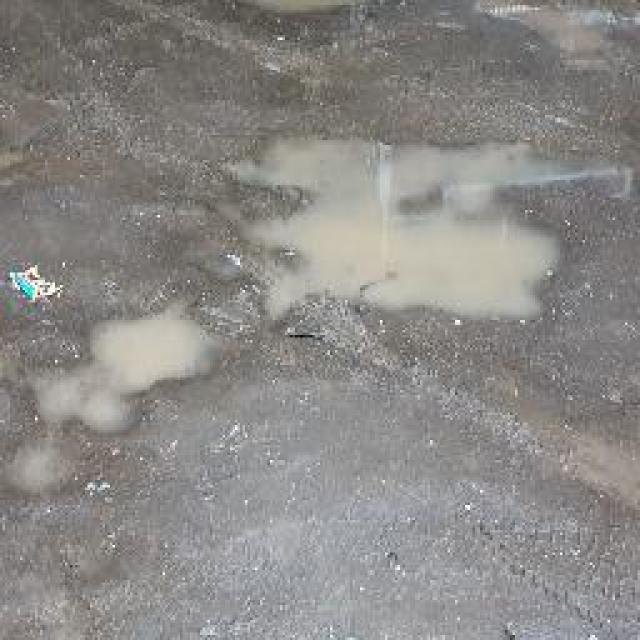waterlogging: (255, 122, 566, 335), (46, 276, 205, 414)
